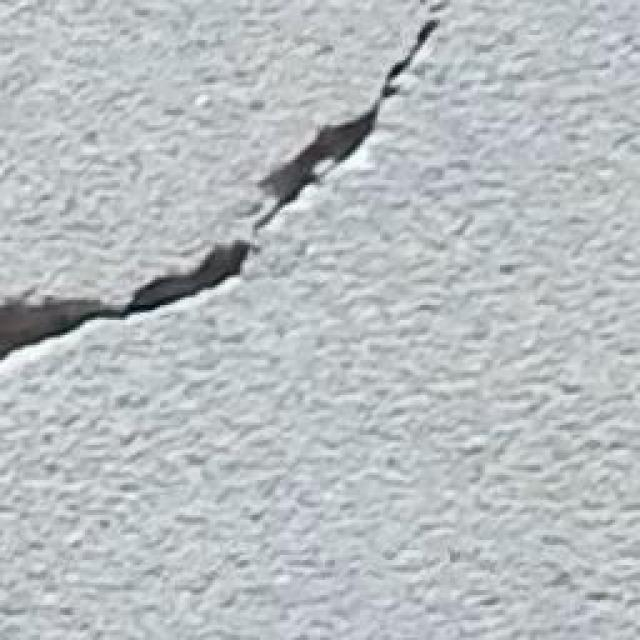concrete-crack: (0, 1, 441, 361)
